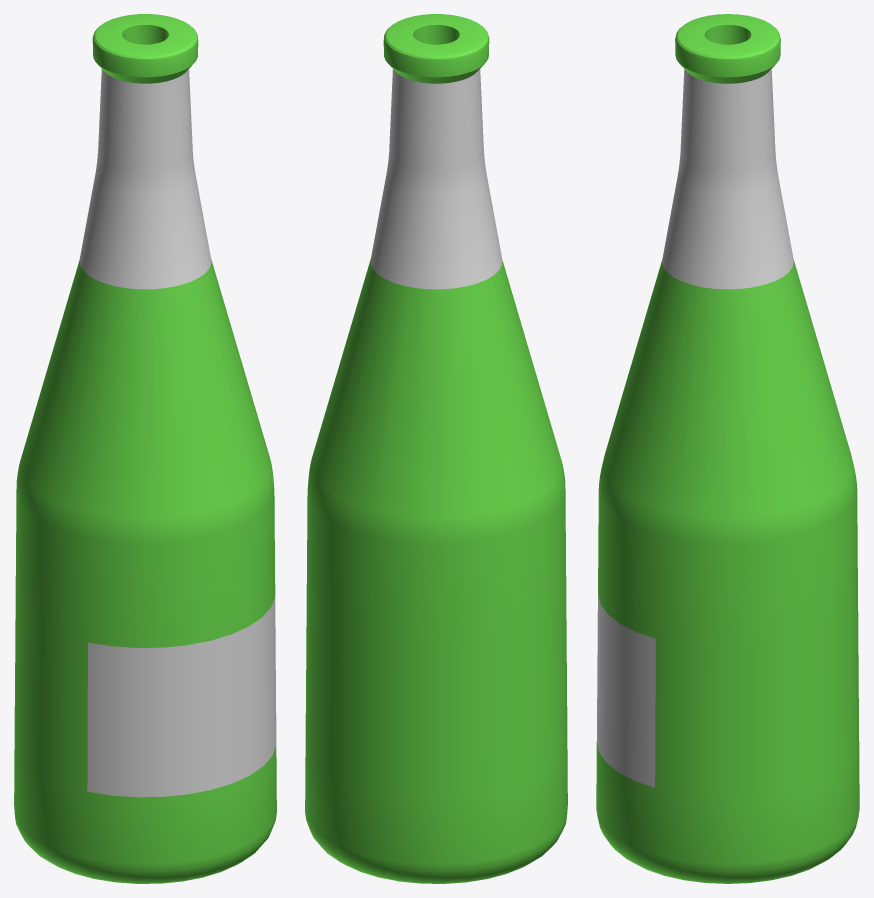
The model's file is SM_ChampagneBottle.fbx.
3 views of the same model, side by side, from view 1: azimuth 30°, elevation 25°; view 2: azimuth 150°, elevation 25°; view 3: azimuth 270°, elevation 25° (orthographic).
Visible parts, largest first — view 1: Champagne_Bottle; view 2: Champagne_Bottle; view 3: Champagne_Bottle.
Part boxes in pixels (x1,y1,x2,y2): Champagne_Bottle: [14, 14, 276, 883]; Champagne_Bottle: [305, 14, 567, 883]; Champagne_Bottle: [596, 14, 859, 883].
Size of the model in its own units: 27.03 by 91.16 by 27.03.
